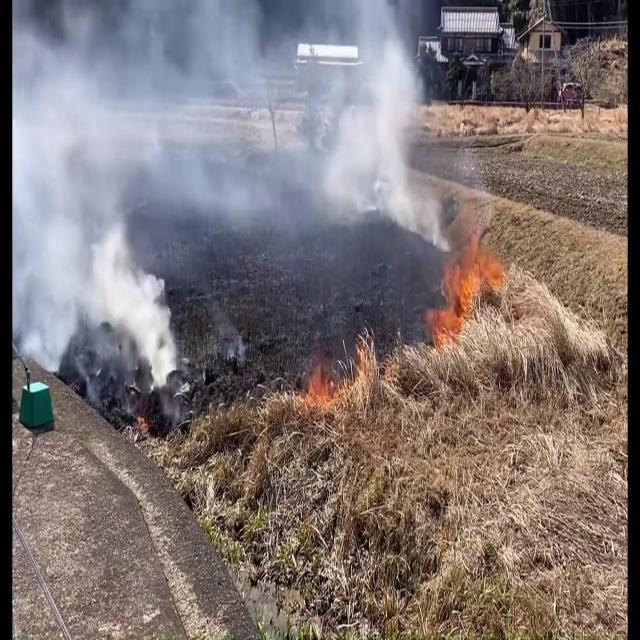Fire: (428, 240, 509, 344)
Smoke: (18, 0, 470, 261), (13, 1, 181, 398)
